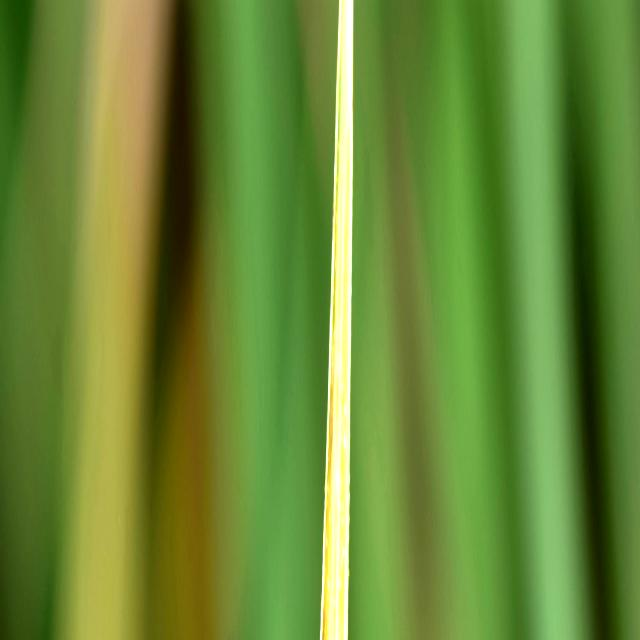BLS: (320, 2, 352, 640)
